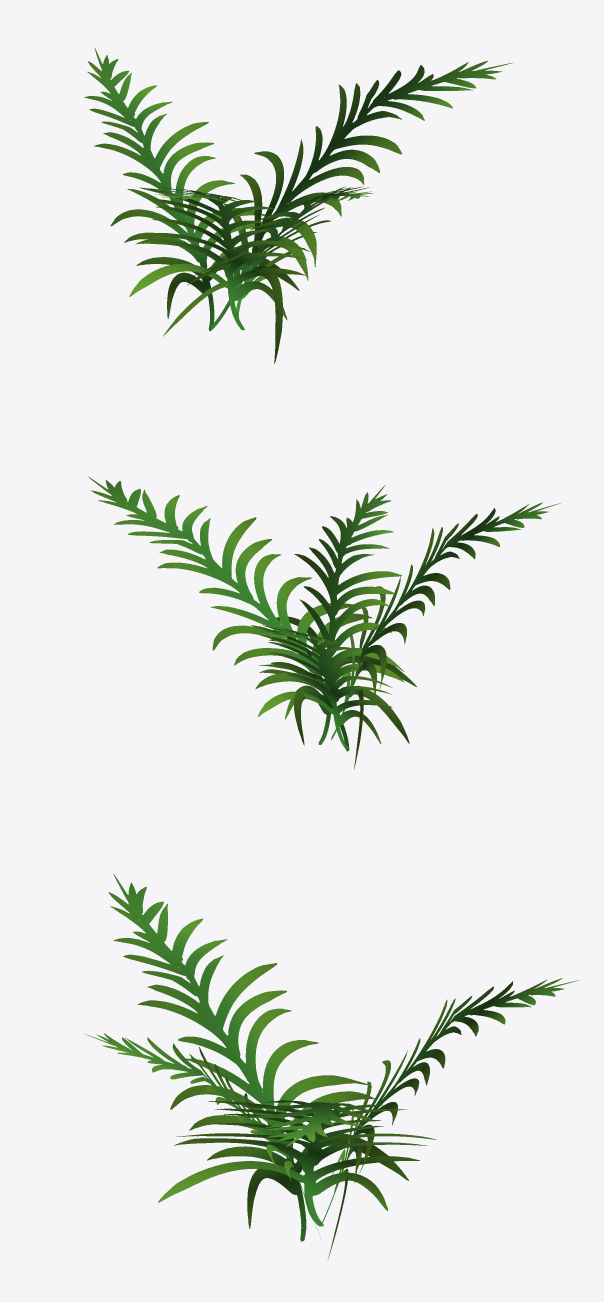
The model's file is plant2.fbx.
The picture shows the model from 3 angles, top to bottom: view 1: azimuth 30°, elevation 25°; view 2: azimuth 150°, elevation 25°; view 3: azimuth 270°, elevation 25°; orthographic projection. The views are drawn at different scales.
Visible parts, largest first — view 1: pPlane282; view 2: pPlane282; view 3: pPlane282.
Part boxes in pixels (x1,y1,x2,y2): pPlane282: [84, 47, 513, 363]; pPlane282: [88, 476, 560, 769]; pPlane282: [84, 873, 578, 1260].
Size of the model in its own units: 0.8271 by 0.3482 by 0.6544.
